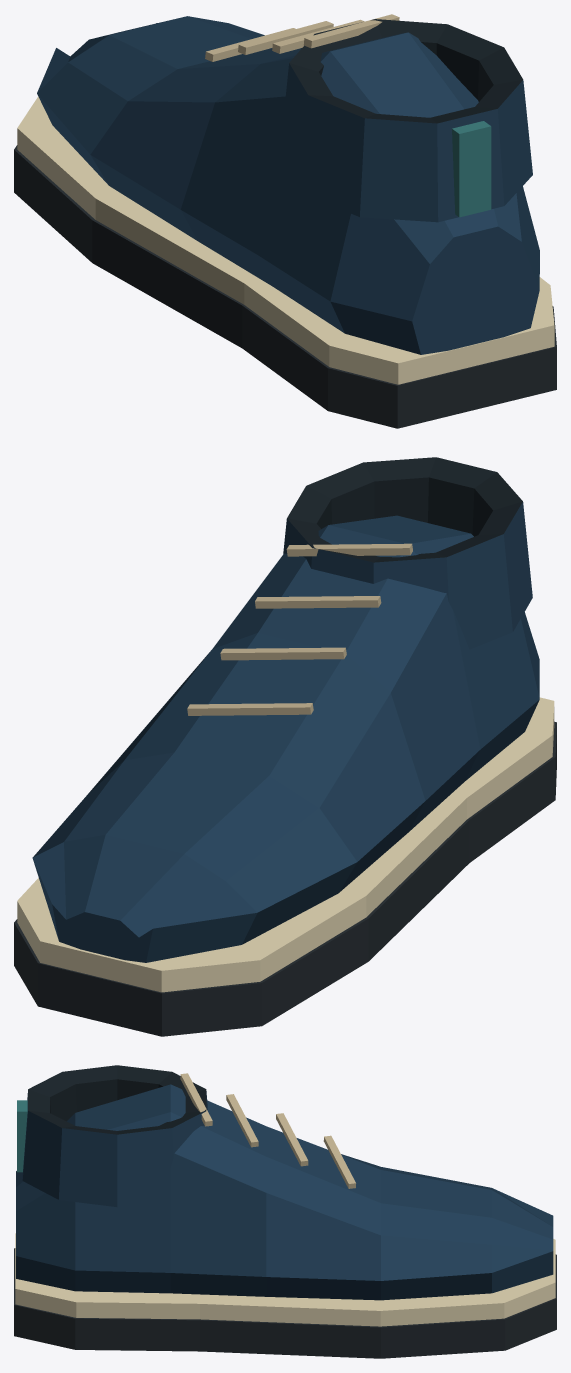
File: b17_running_shoe.glb
The picture shows the model from 3 angles, top to bottom: view 1: azimuth 30°, elevation 25°; view 2: azimuth 150°, elevation 25°; view 3: azimuth 270°, elevation 25°; orthographic projection. The views are drawn at different scales.
Visible parts, largest first — view 1: b17_running_shoe; view 2: b17_running_shoe; view 3: b17_running_shoe.
Part boxes in pixels (x1,y1,x2,y2): b17_running_shoe: (14, 14, 556, 428); b17_running_shoe: (14, 457, 556, 1036); b17_running_shoe: (14, 1065, 556, 1358).
Bounding box in the file's own units: 0.124 × 0.1245 × 0.284.
